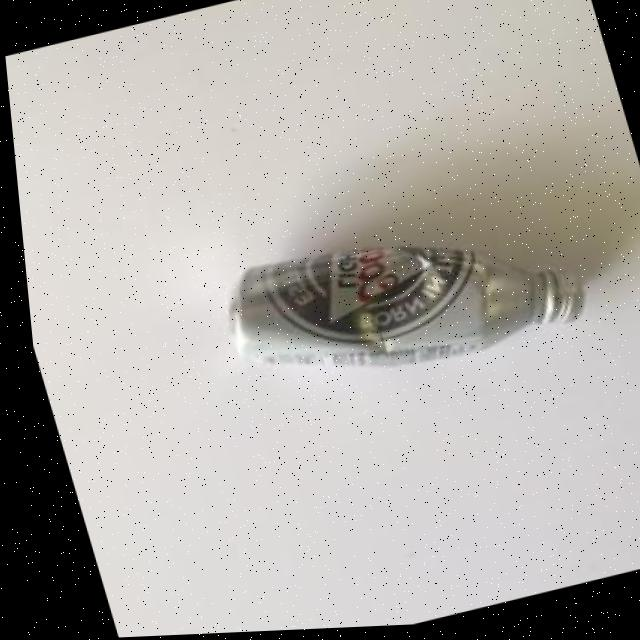metal: (190, 184, 605, 424)
